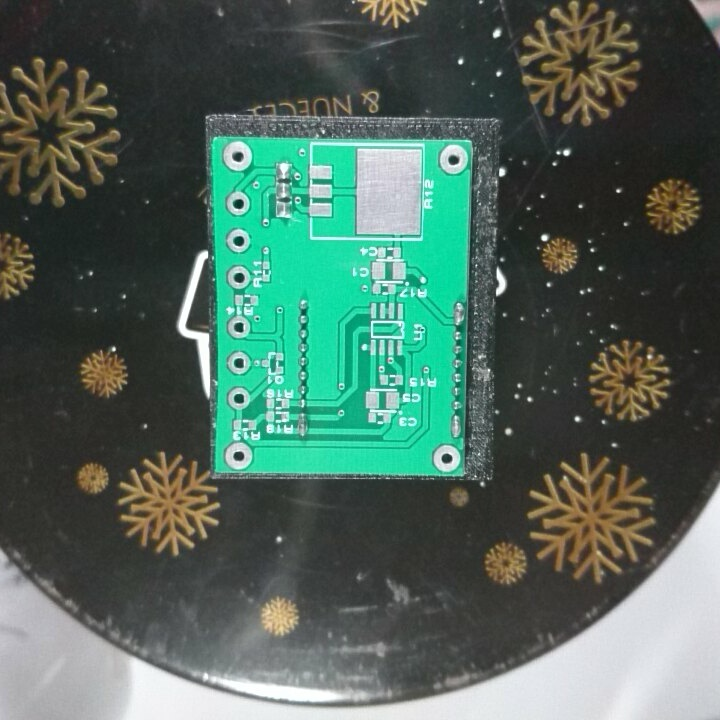F: (219, 138, 260, 173), (431, 442, 462, 474), (437, 141, 466, 175), (221, 440, 255, 468), (224, 262, 253, 292), (224, 188, 252, 217), (223, 226, 252, 253), (225, 349, 252, 376), (226, 385, 254, 411), (225, 314, 251, 340)
P: (296, 411, 311, 437), (452, 298, 465, 327), (449, 414, 462, 440)
